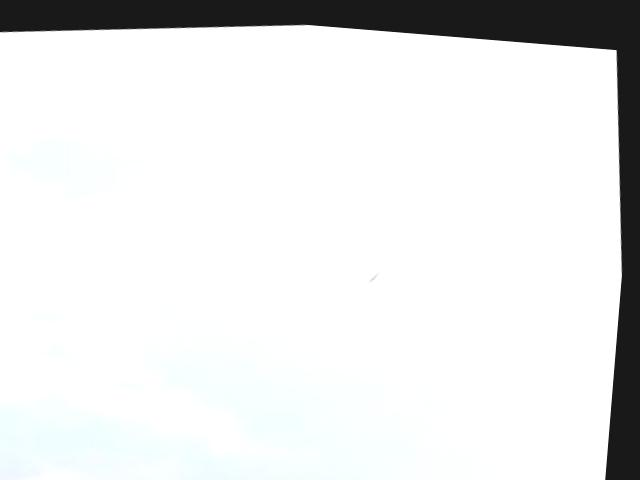iha: (370, 264, 386, 278)
